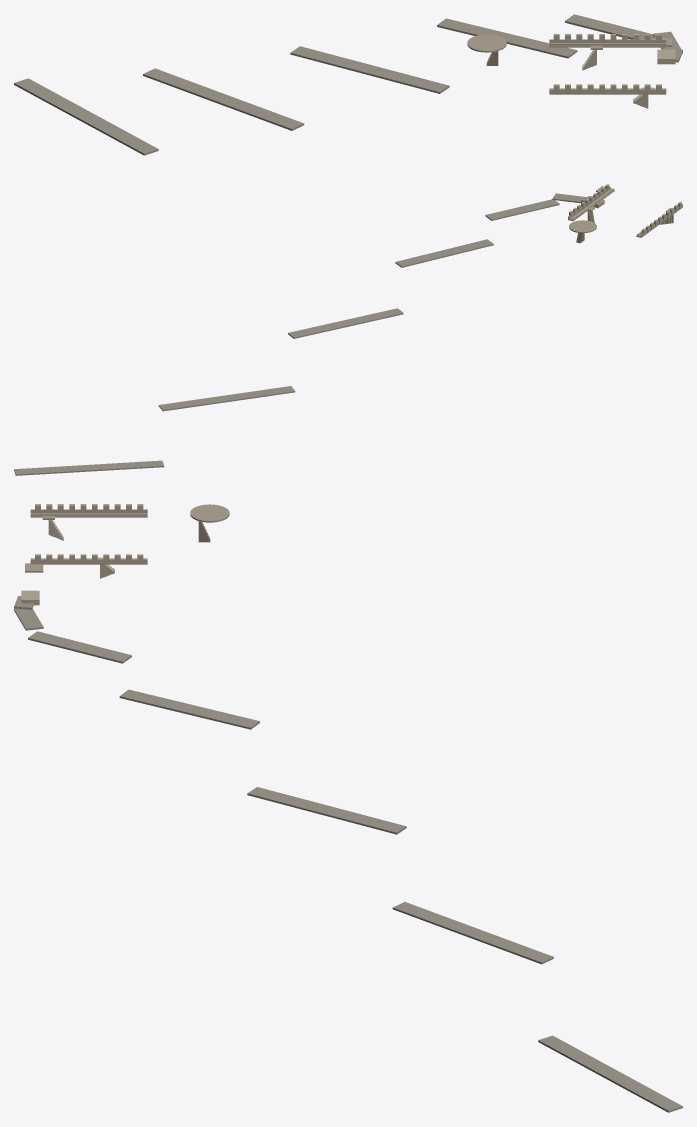
The model's file is access_walls_gameplay.glb.
3 renders of one model, top to bottom at view 1: azimuth 90°, elevation 25°; view 2: azimuth 150°, elevation 25°; view 3: azimuth 270°, elevation 25°, orthographic. The views are drawn at different scales.
Visible parts, largest first — view 1: world; view 2: world; view 3: world.
Boxes of the visible parts, x1=… form: world: x1=14, y1=14, x2=682, y2=155; world: x1=14, y1=184, x2=682, y2=475; world: x1=14, y1=504, x2=682, y2=1112.
Size of the model in its own units: 199 by 96.1 by 183.
